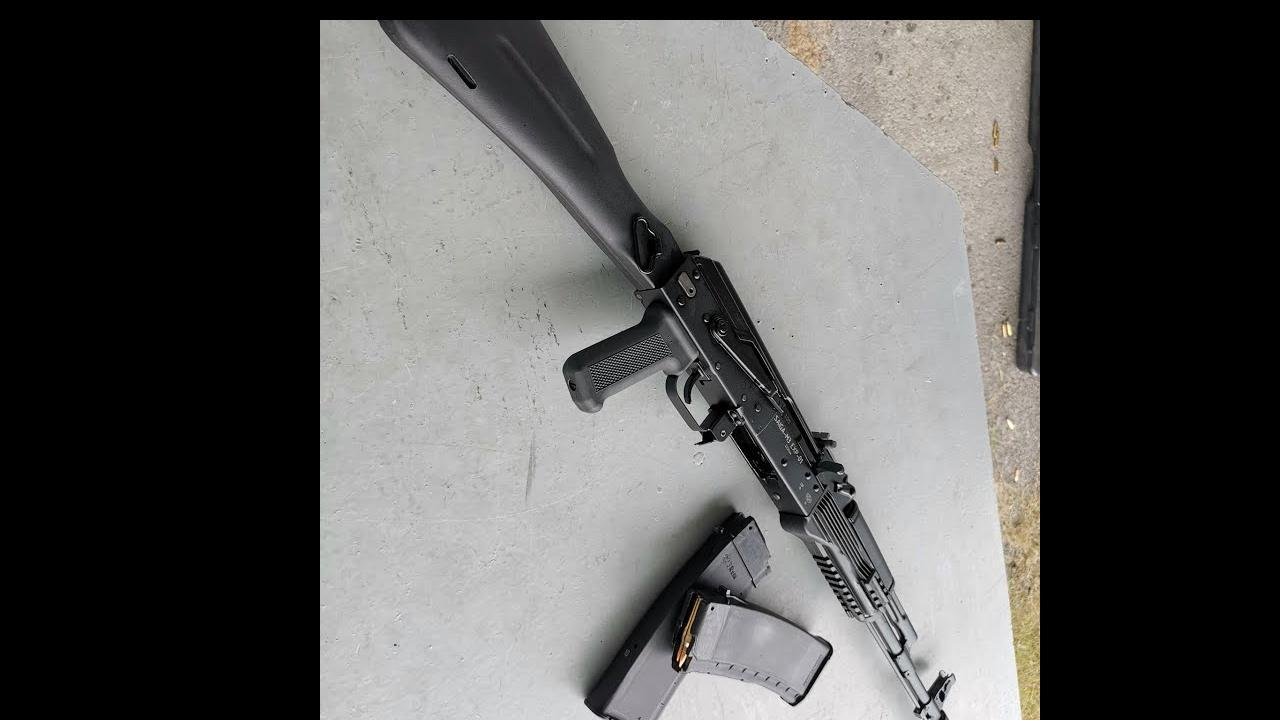larga: (378, 20, 957, 720)
